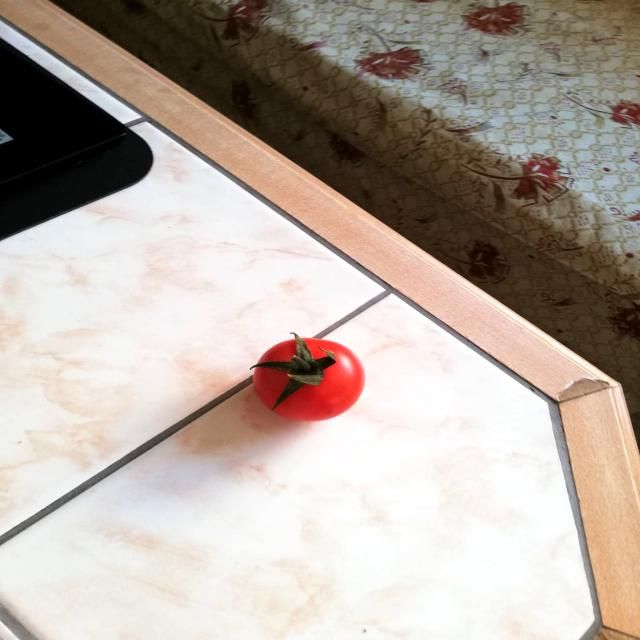tomato: (243, 330, 369, 424)
